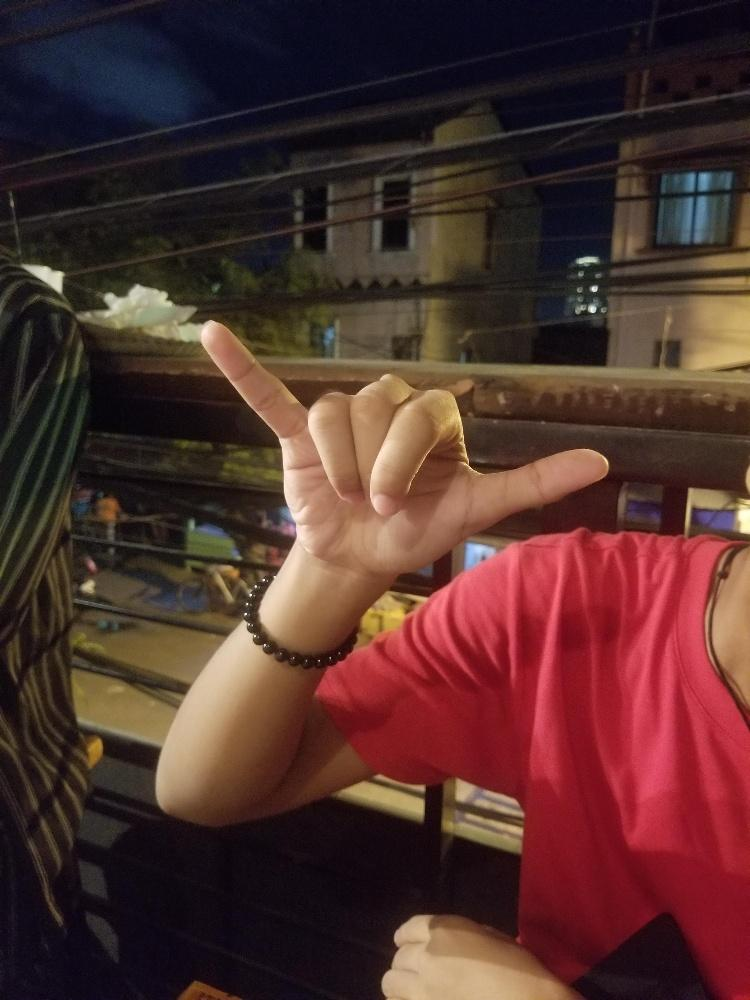y: (197, 317, 609, 573)
